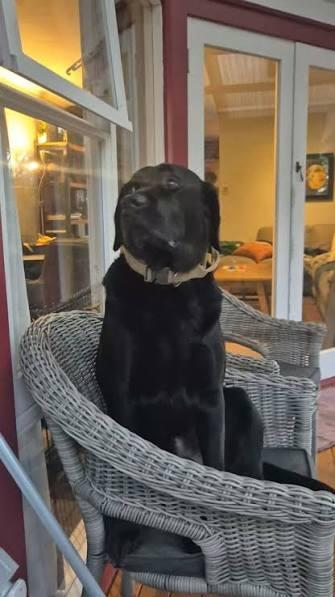adult_dog: (96, 161, 334, 496)
